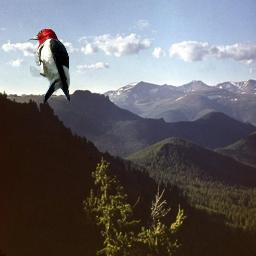Woodpecker: (26, 28, 71, 104)
